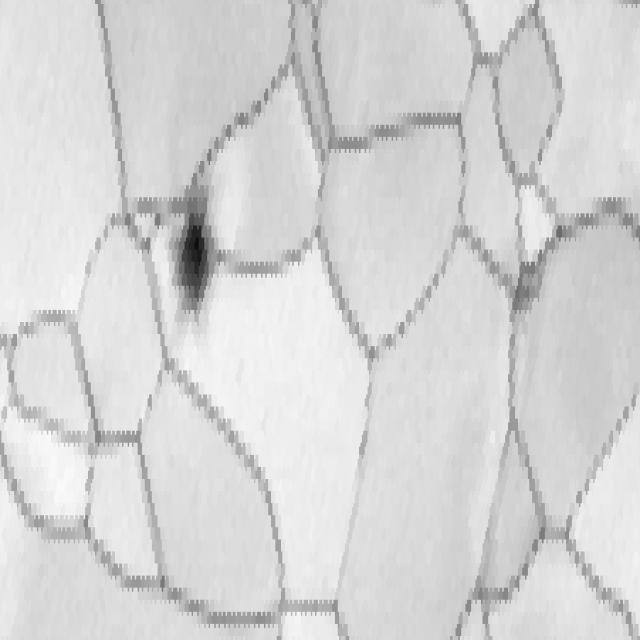good_void: (164, 159, 228, 361), (505, 251, 548, 319)
